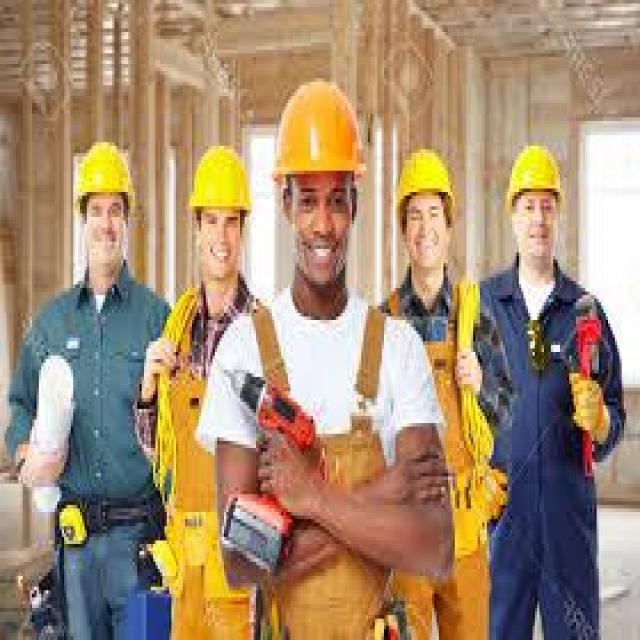Safety-Helmet: (265, 68, 368, 188), (66, 128, 142, 224), (183, 135, 258, 228), (388, 135, 459, 221), (501, 135, 569, 217)
